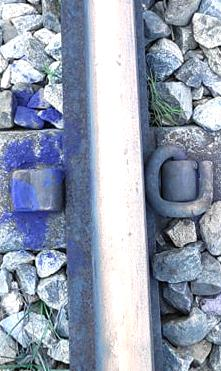error1: (150, 133, 220, 222), (4, 145, 69, 222)
